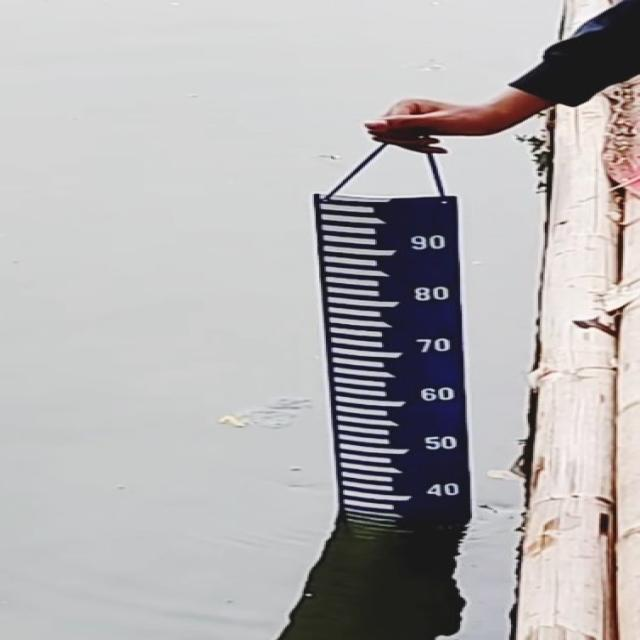ruler: (308, 188, 494, 539)
value: (399, 227, 456, 262), (400, 278, 458, 310), (405, 331, 458, 363), (414, 430, 466, 462), (411, 380, 462, 410), (418, 476, 466, 504)
